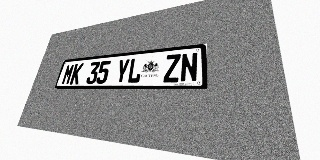3: (85, 61, 101, 84)
5: (96, 60, 111, 84)
K: (69, 63, 84, 84)
L: (127, 57, 143, 83)
M: (61, 64, 75, 85)
N: (180, 52, 198, 82)
Y: (114, 59, 130, 84)
Z: (163, 54, 181, 83)
